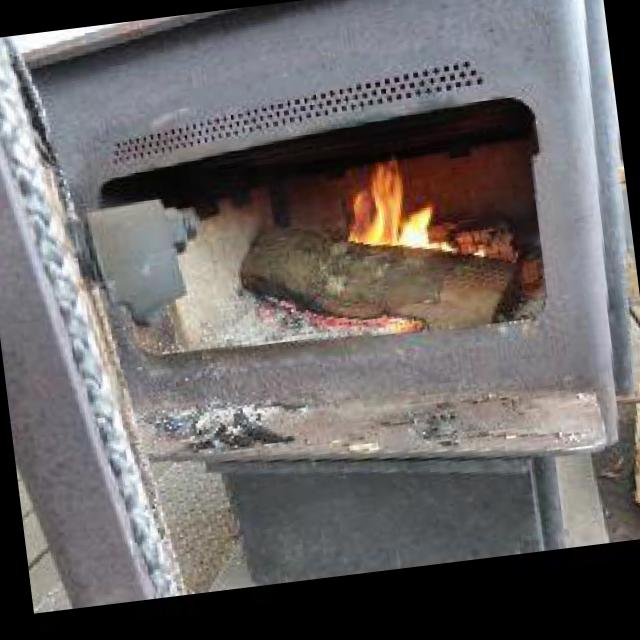fire: (339, 157, 448, 260)
